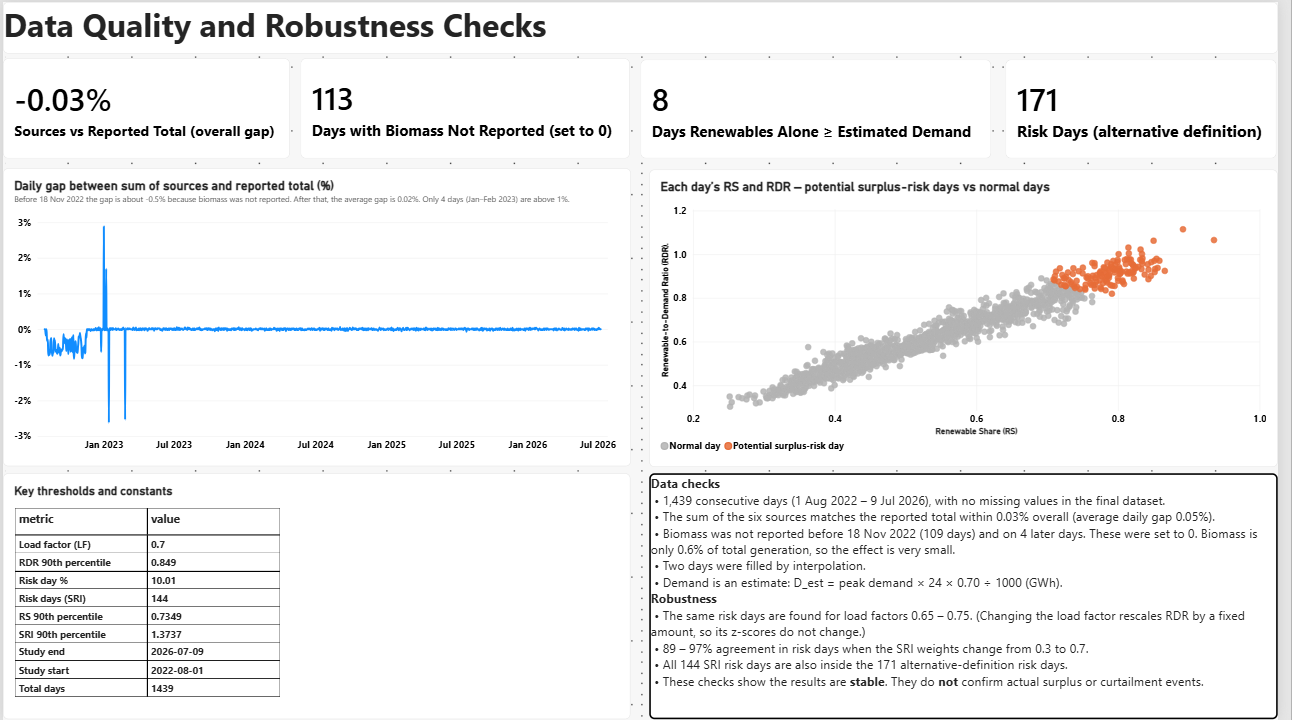

Layout of this report page (visuals, bound fields, positions):
{"tool":"powerbi","page":{"name":"Data Quality.","canvas":[1920,1080],"ordinal":3},"visuals":[{"type":"textbox","box":[0,0,1920,77.5],"z":0},{"type":"cardVisual","fields":{"Data":["surplus_risk_daily.Days RDR Above 1"]},"box":[960,86.8,528,149.5],"z":1000},{"type":"cardVisual","fields":{"Data":["surplus_risk_daily.Source-Total Gap %"]},"box":[0,84.9,432,151.4],"z":2000},{"type":"cardVisual","fields":{"Data":["surplus_risk_daily.Risk Days (alt definition)"]},"box":[1510.2,86.8,408,149.5],"z":3000},{"type":"cardVisual","fields":{"Data":["surplus_risk_daily.Days Biomass Zero"]},"box":[448.6,84.9,496.6,151.4],"z":4000},{"type":"lineChart","title":"Daily gap between sum of sources and reported total (%)","fields":{"Category":["DateTable.Date"],"Y":["surplus_risk_daily.Source-Total Gap %"]},"box":[0,251.1,945.2,448.6],"z":5000},{"type":"scatterChart","title":"Each day’s RS and RDR – potential surplus-risk days vs normal days","fields":{"Category":["DateTable.Date"],"Series":["surplus_risk_daily.risk_label"],"X":["Sum(surplus_risk_daily.RS)"],"Y":["Sum(surplus_risk_daily.RDR)"]},"box":[973.7,251.4,946.3,448],"z":6000},{"type":"tableEx","title":"Key thresholds and constants","fields":{"Values":["reference_thresholds.metric","reference_thresholds.value"]},"box":[0,710,945,370],"z":7000},{"type":"textbox","box":[974,710,946,370],"z":8000}]}

Visuals, with their boxes in screenshot pixels (x1, y1, x2, y2), scaled from the page's 1920x1080 canvas onto the 1292x720 screenshot:
textbox: 0:0:1291:52
cardVisual - surplus_risk_daily.Days RDR Above 1: 646:58:1001:158
cardVisual - surplus_risk_daily.Source-Total Gap %: 0:57:291:158
cardVisual - surplus_risk_daily.Risk Days (alt definition): 1016:58:1291:158
cardVisual - surplus_risk_daily.Days Biomass Zero: 302:57:636:158
"Daily gap between sum of sources and reported total (%)" lineChart: 0:167:636:466
"Each day’s RS and RDR – potential surplus-risk days vs normal days" scatterChart: 655:168:1291:466
"Key thresholds and constants" tableEx: 0:473:636:719
textbox: 655:473:1291:719
